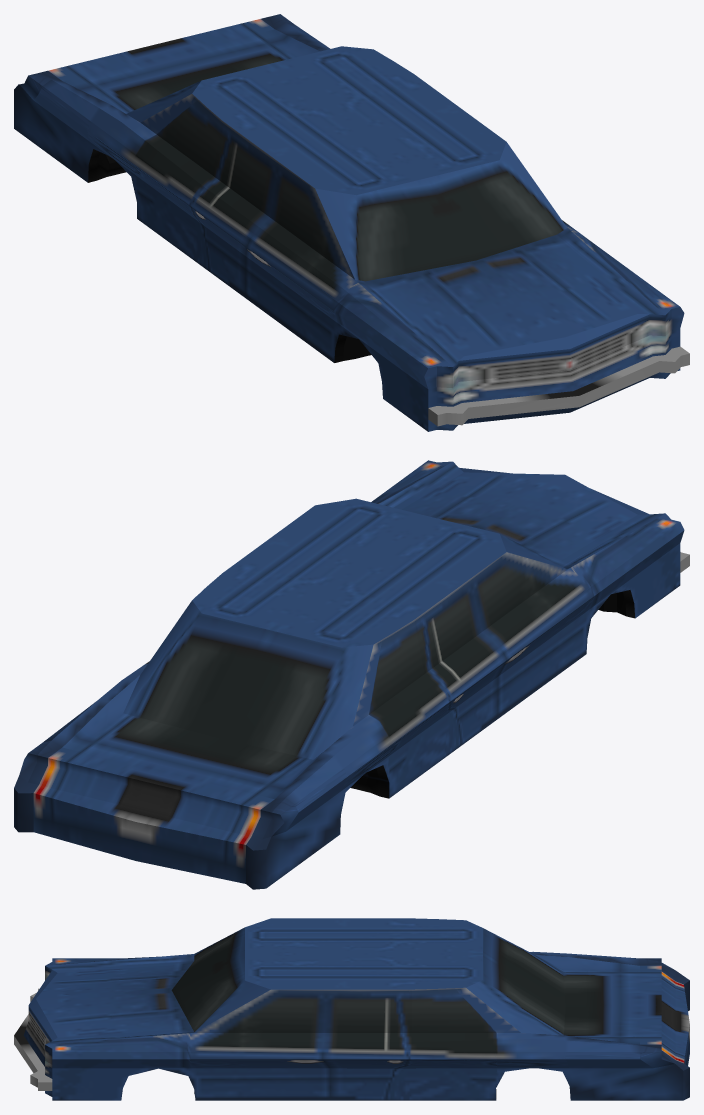
File: CarTextured.fbx
3 renders of one model, top to bottom at view 1: azimuth 30°, elevation 25°; view 2: azimuth 150°, elevation 25°; view 3: azimuth 270°, elevation 25°, orthographic. The views are drawn at different scales.
Parts seen in each view (by area): view 1: polySurface19; view 2: polySurface19; view 3: polySurface19.
Part boxes in pixels (box(x1,y1,x2,y2)): polySurface19: box(14, 14, 689, 431); polySurface19: box(14, 460, 689, 889); polySurface19: box(14, 918, 689, 1100).
Size of the model in its own units: 13.24 by 6.37 by 39.12.
